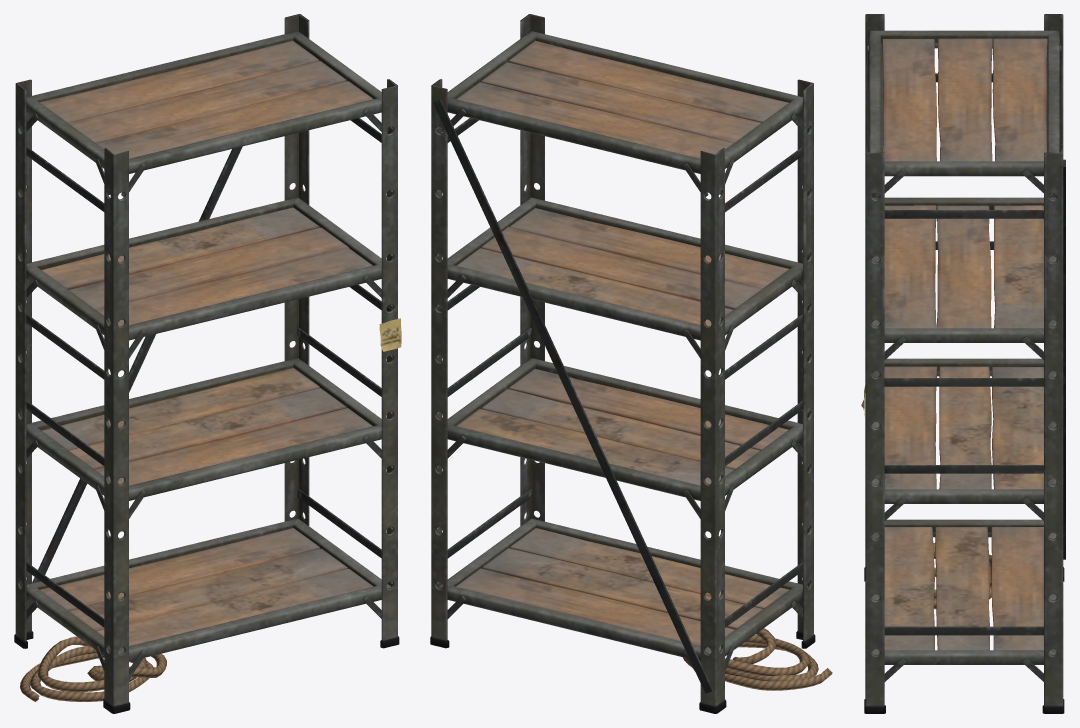
The model's file is rack_small.dc52d6f619.glb.
3 views of the same model, side by side, from view 1: azimuth 30°, elevation 25°; view 2: azimuth 150°, elevation 25°; view 3: azimuth 270°, elevation 25° (orthographic).
Parts seen in each view (by area): view 1: rack_small; view 2: rack_small; view 3: rack_small.
Part boxes in pixels (bbox=[...]): rack_small: bbox=[14, 14, 401, 713]; rack_small: bbox=[430, 14, 832, 713]; rack_small: bbox=[861, 14, 1065, 713].
Bounding box in the file's own units: 1.19 × 1.88 × 0.6224.
1 material, 1 textured.
